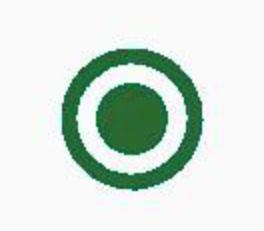RadioButton: (1, 1, 263, 230)
